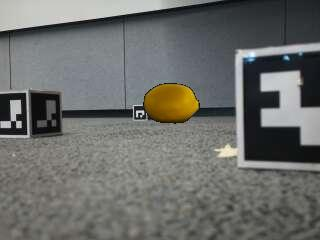lemon: (144, 84, 198, 123)
